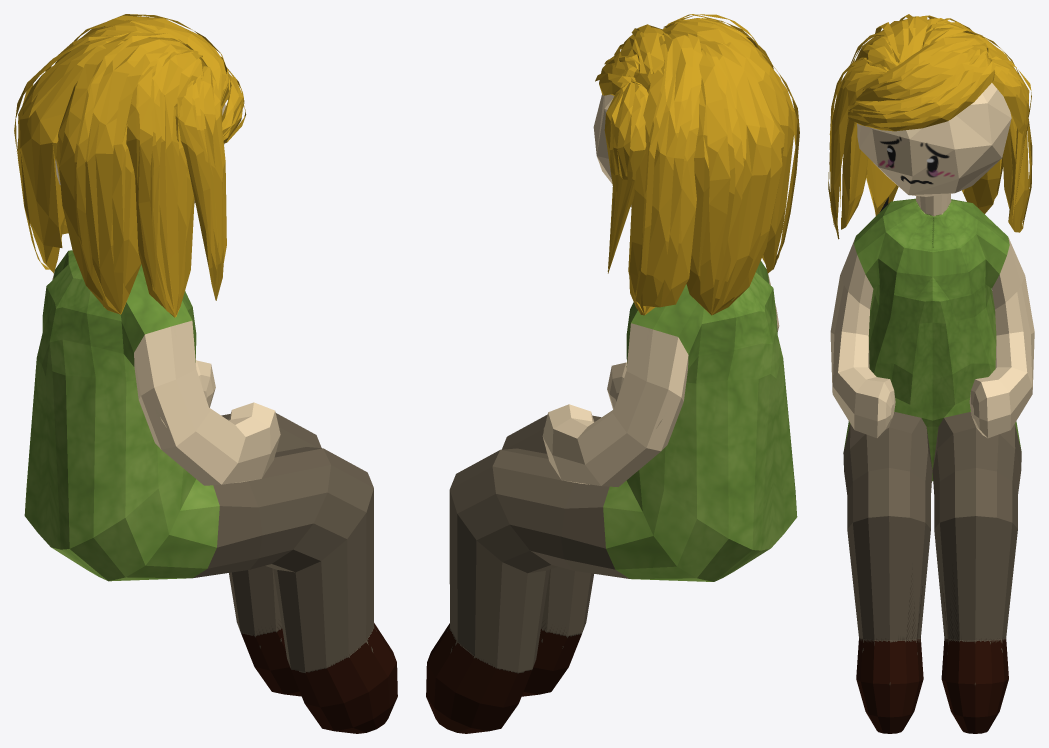
The model's file is PERSONA NUEVOFINAL.fbx.
3 views of the same model, side by side, from view 1: azimuth 30°, elevation 25°; view 2: azimuth 150°, elevation 25°; view 3: azimuth 270°, elevation 25° (orthographic). The views are drawn at different scales.
Parts seen in each view (by area): view 1: CUERPO, Sphere; view 2: CUERPO, Sphere; view 3: CUERPO, Sphere.
Part boxes in pixels (x1=…): CUERPO: x1=24, y1=250, x2=397, y2=733; Sphere: x1=14, y1=14, x2=246, y2=317; CUERPO: x1=426, y1=260, x2=797, y2=733; Sphere: x1=593, y1=14, x2=799, y2=315; CUERPO: x1=830, y1=194, x2=1034, y2=733; Sphere: x1=828, y1=14, x2=1032, y2=239.
Size of the model in its own units: 50.7 by 105 by 31.37.
3 materials, 2 textured.
